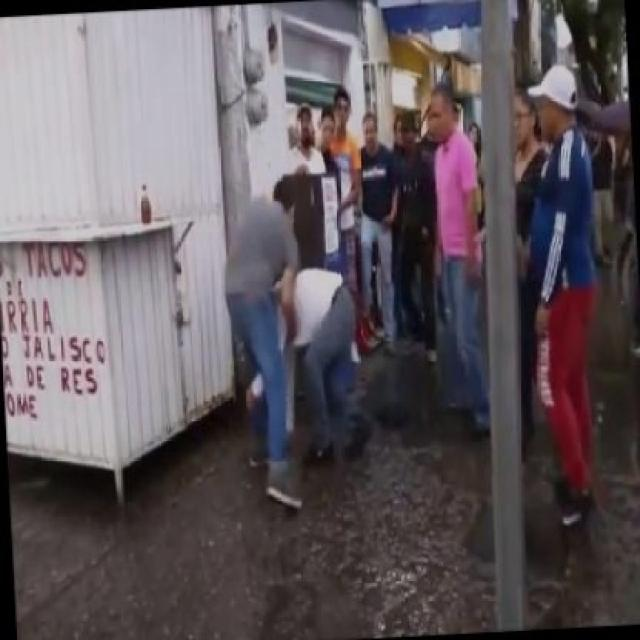fight: (217, 101, 375, 514)
non-fight: (506, 42, 639, 536), (415, 72, 497, 432)
